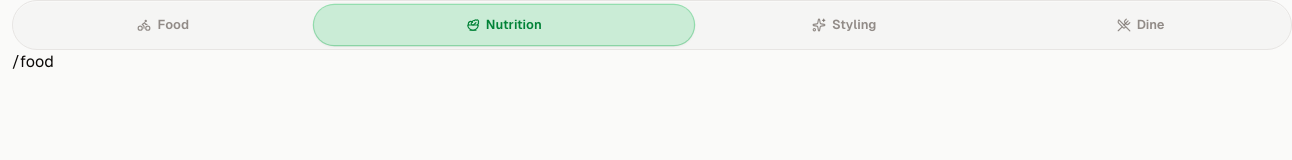
Test case: VerticalNav Nutrition/Style switch guard › does not guard non Nutrition/Style tab switches
This screenshot has width=1292, height=160.
Click the link "Dine" at (1141, 25), box [1117,17,1165,32]
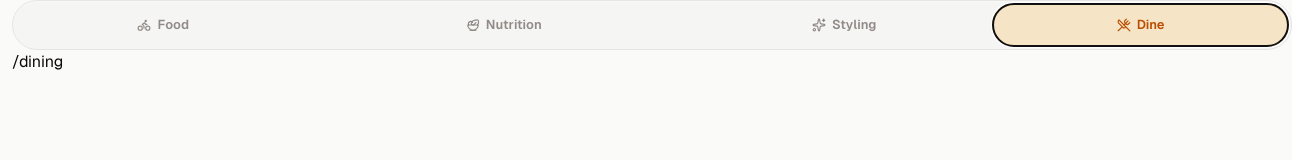
Check: the text with test id "pathname" reads "/dining", box [12,52,63,71]
